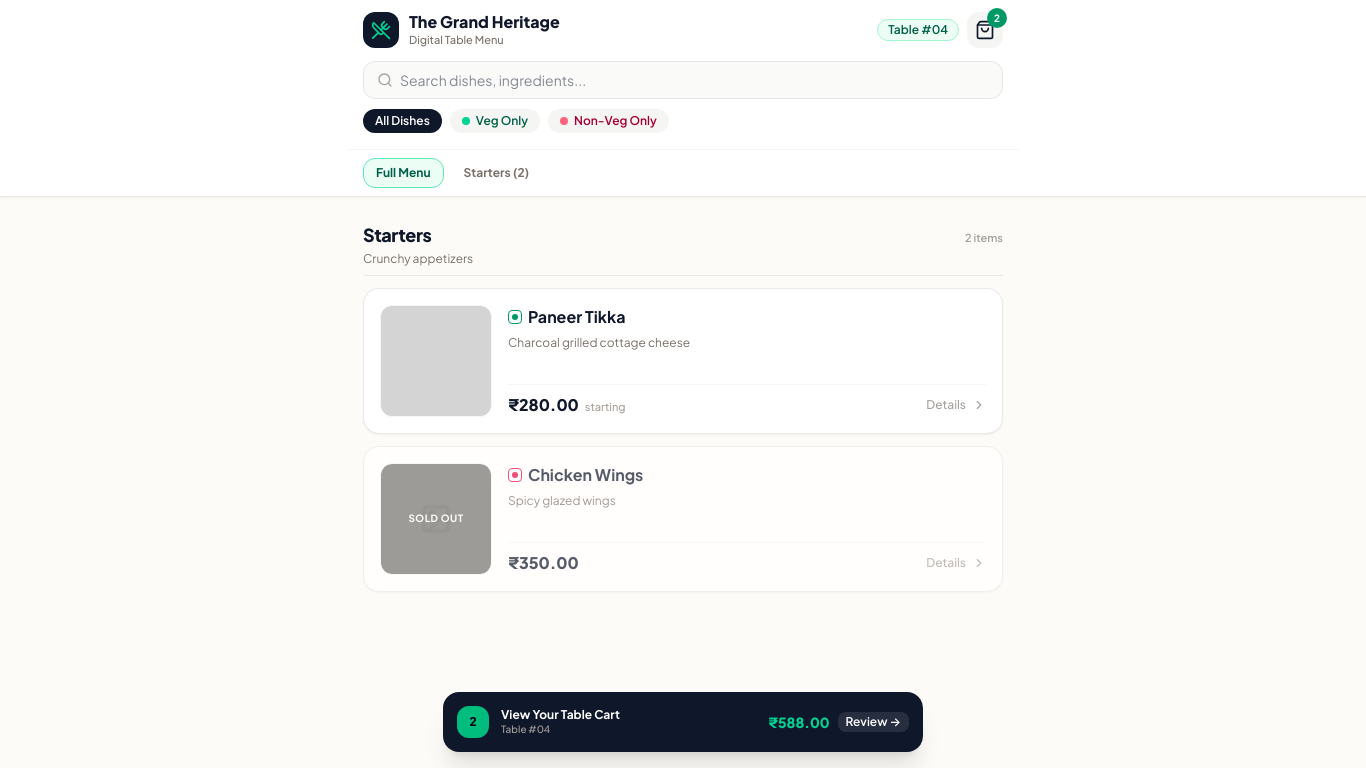
it: CustomerMenuPage Digital Experience › filters dishes by dietary preference (Veg Only)
The image size is (1366, 768).
Check: the heading "Paneer Tikka" is shown, box [528, 304, 626, 328]
Check: the heading "Chicken Wings" is shown, box [528, 462, 643, 486]
Click the button "Veg Only" at (495,120), box [450, 108, 540, 132]
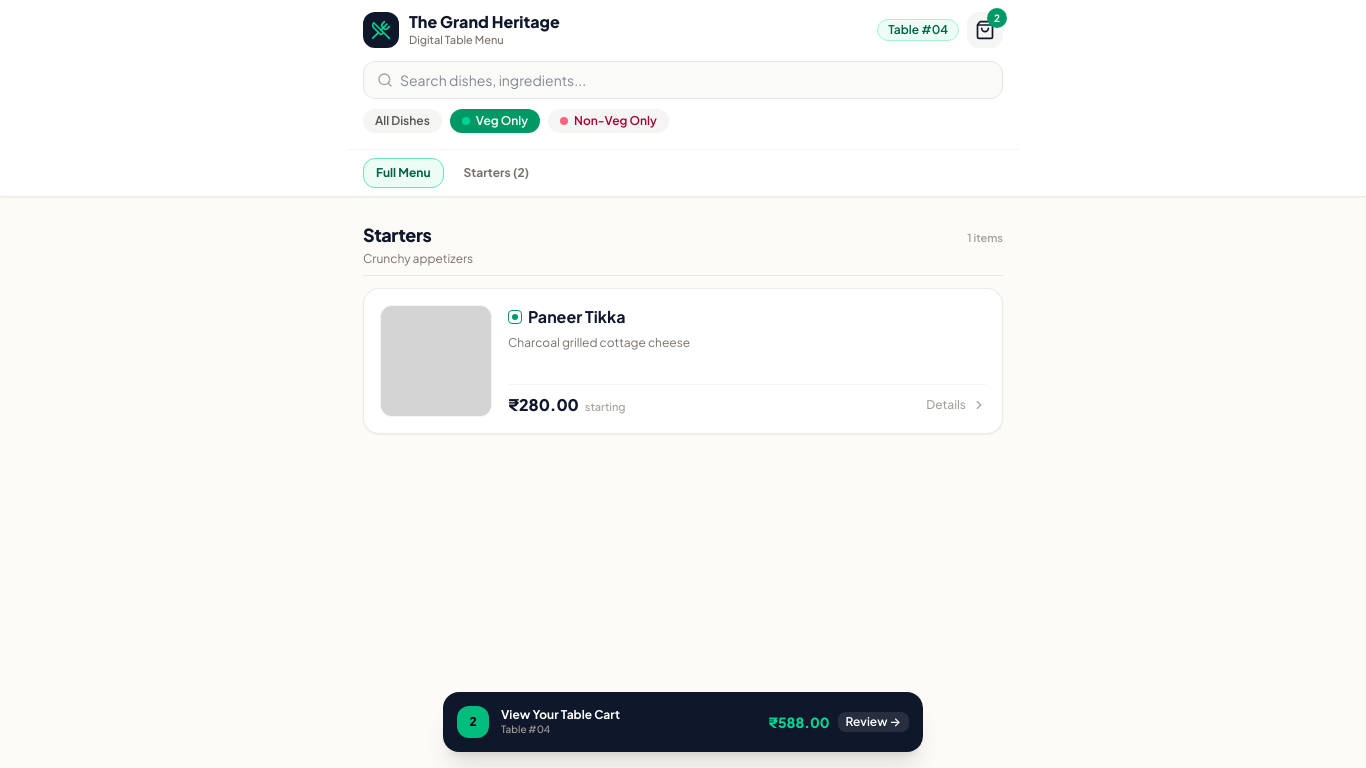
Check: the heading "Paneer Tikka" is shown, box [528, 304, 626, 328]
Check: the button "Chicken Wings" is gone
